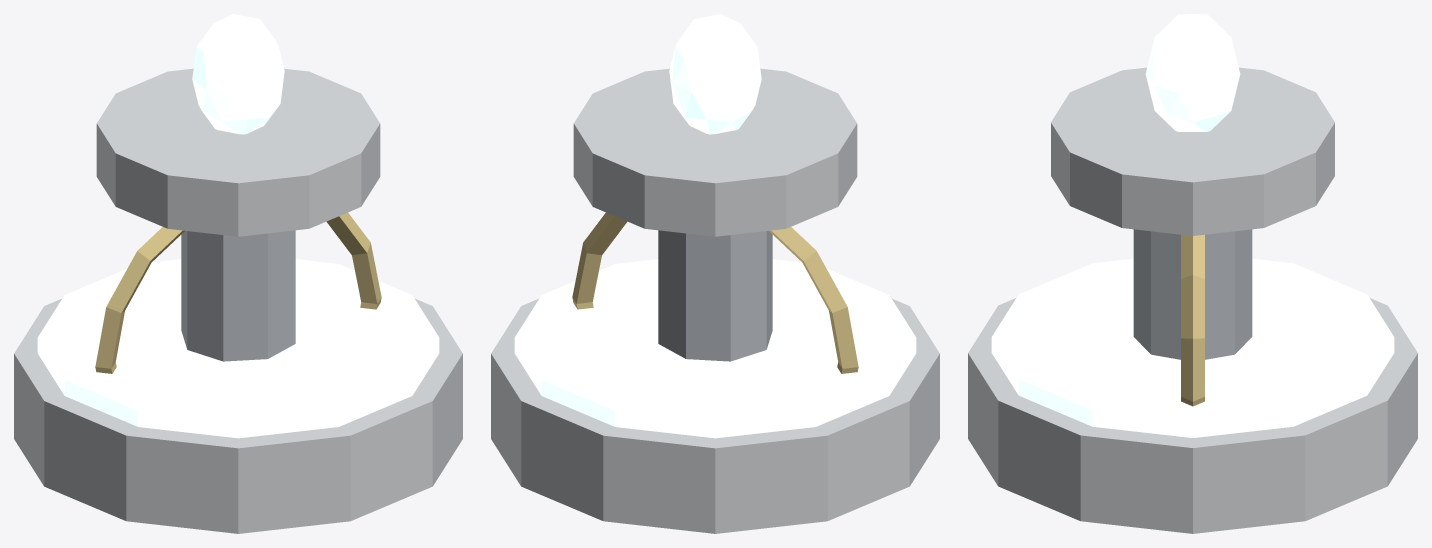
File: turret_fountain.glb
The picture shows the model from 3 angles, left to right: view 1: azimuth 30°, elevation 25°; view 2: azimuth 150°, elevation 25°; view 3: azimuth 270°, elevation 25°; orthographic projection.
Visible parts, largest first — view 1: turret_fountain; view 2: turret_fountain; view 3: turret_fountain.
Part boxes in pixels (left/top/right/bottom): turret_fountain: left=14, top=14, right=462, bottom=533; turret_fountain: left=491, top=14, right=939, bottom=533; turret_fountain: left=968, top=14, right=1417, bottom=533.
Size of the model in its own units: 0.76 by 0.872 by 0.76.
